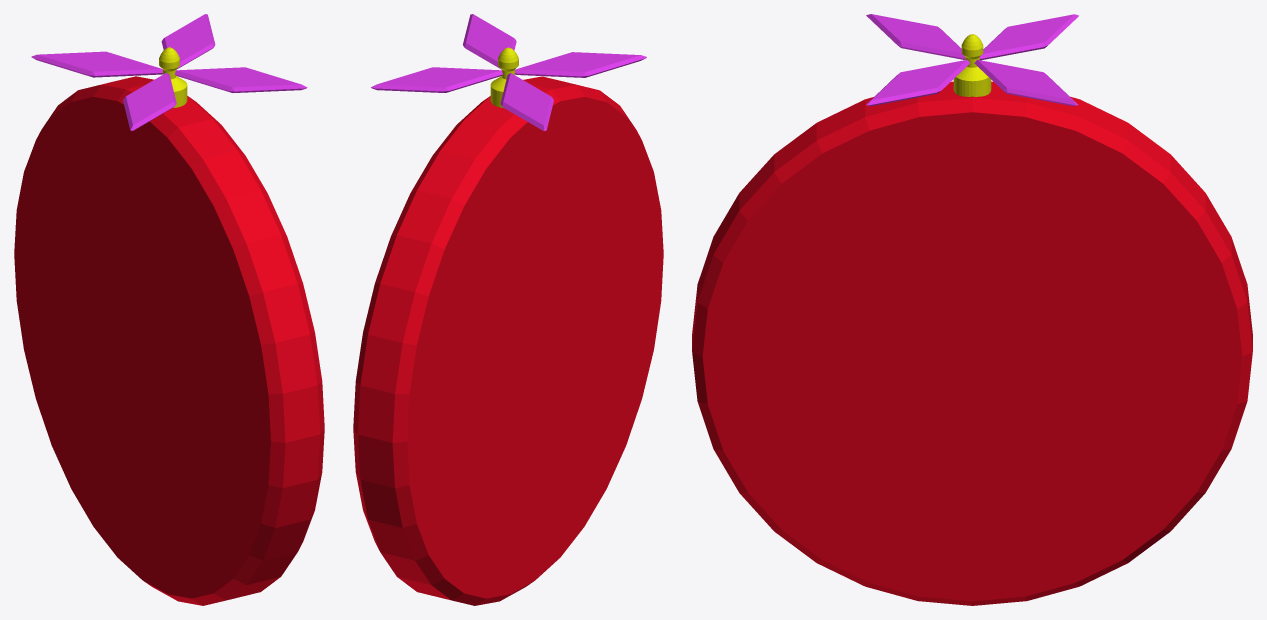
Rendered from target.fbx.
3 views of the same model, side by side, from view 1: azimuth 30°, elevation 25°; view 2: azimuth 150°, elevation 25°; view 3: azimuth 270°, elevation 25° (orthographic). The views are drawn at different scales.
Parts seen in each view (by area): view 1: Cylinder, Cube, Cylinder.001; view 2: Cylinder, Cube, Cylinder.001; view 3: Cylinder, Cube, Cylinder.001.
Boxes of the visible parts, x1=… form: Cylinder: x1=14, y1=76, x2=324, y2=605; Cube: x1=31, y1=14, x2=307, y2=130; Cylinder.001: x1=159, y1=47, x2=187, y2=108; Cylinder: x1=353, y1=76, x2=663, y2=605; Cube: x1=371, y1=14, x2=646, y2=131; Cylinder.001: x1=490, y1=47, x2=518, y2=107; Cylinder: x1=692, y1=81, x2=1252, y2=605; Cube: x1=866, y1=14, x2=1078, y2=106; Cylinder.001: x1=953, y1=34, x2=991, y2=96.
Size of the model in its own units: 22.99 by 66.36 by 60.
